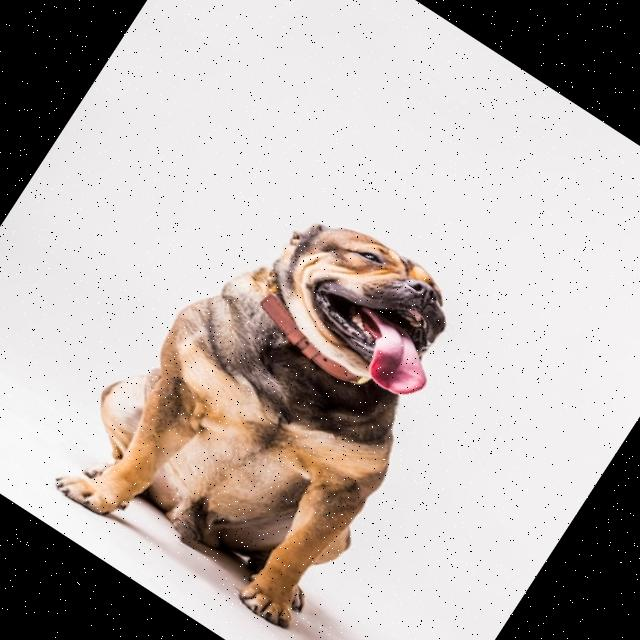Dog: (45, 159, 499, 640)
